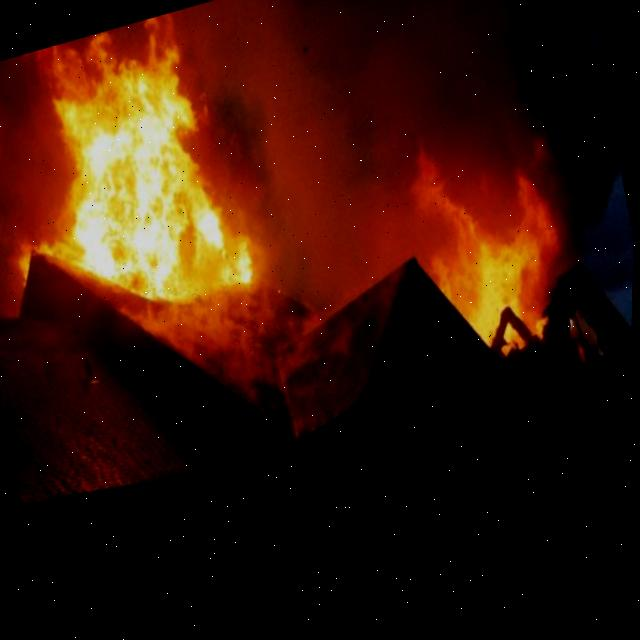fire: (48, 21, 254, 303), (413, 156, 561, 350)
smoke: (150, 0, 619, 345), (155, 0, 591, 320), (0, 51, 76, 313)
